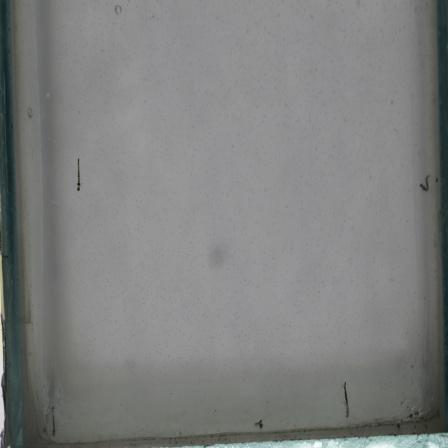Jentik-Nyamuk: (340, 378, 353, 422), (72, 154, 85, 194), (418, 172, 432, 194), (253, 413, 266, 433)
